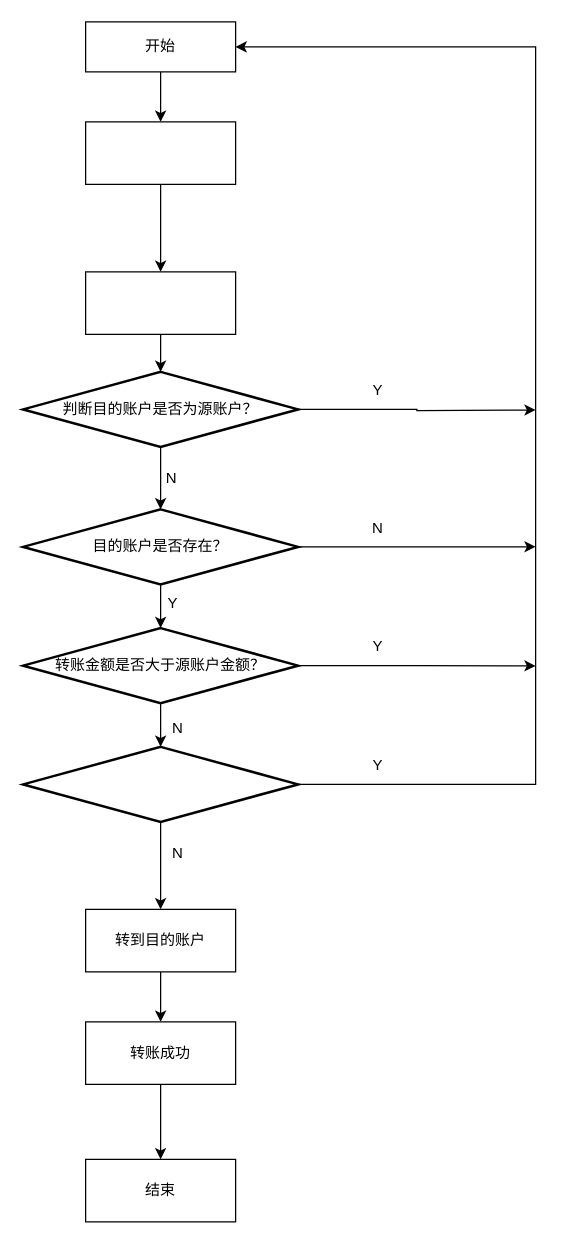
Some shapes in this 568 by 1244 pixel diagram are drawn without their labels. Each missing label, with the centre of its shape:
填写目的账户 填写金额: point (160, 302)
账户是否被锁定？: point (160, 783)
转账: point (160, 152)
